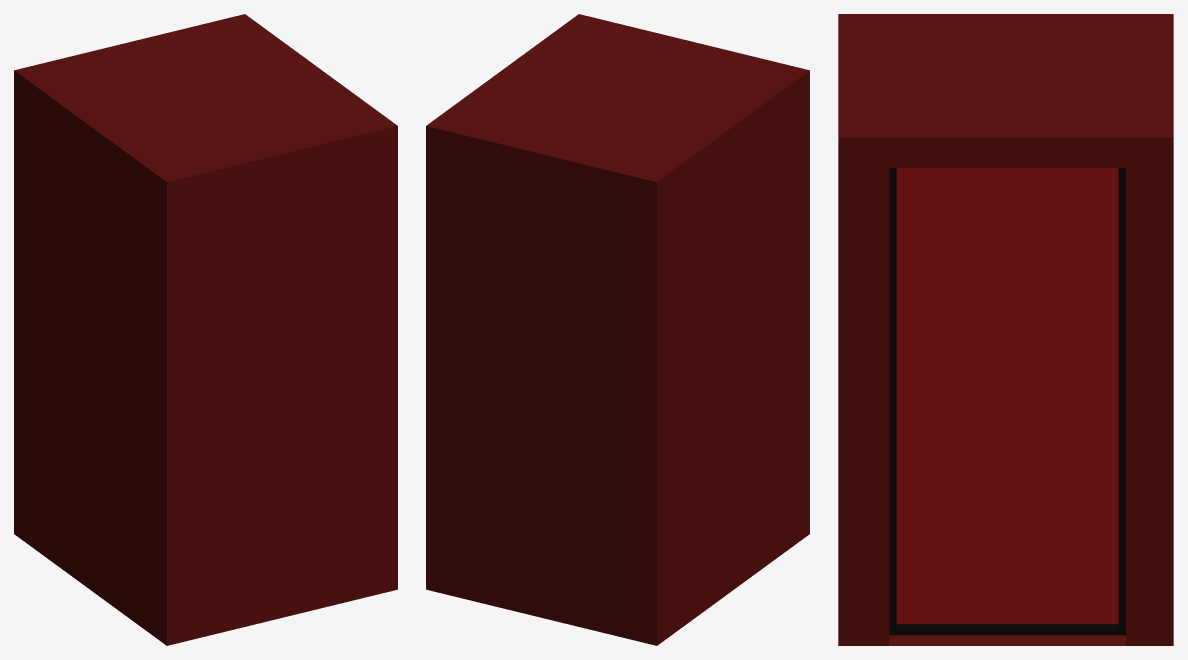
The model's file is puertas minijuego roj.fbx.
The picture shows the model from 3 angles, left to right: view 1: azimuth 30°, elevation 25°; view 2: azimuth 150°, elevation 25°; view 3: azimuth 270°, elevation 25°; orthographic projection. The views are drawn at different scales.
Visible parts, largest first — view 1: Cube, Cube.001; view 2: Cube, Cube.001; view 3: Cube, Cube.001.
Boxes of the visible parts, x1,y1,x2,y2 form: Cube: [14, 14, 397, 645]; Cube.001: [35, 114, 143, 628]; Cube: [426, 14, 809, 645]; Cube.001: [678, 115, 786, 629]; Cube: [838, 14, 1173, 645]; Cube.001: [896, 168, 1118, 623].
Size of the model in its own units: 200 by 384 by 229.
